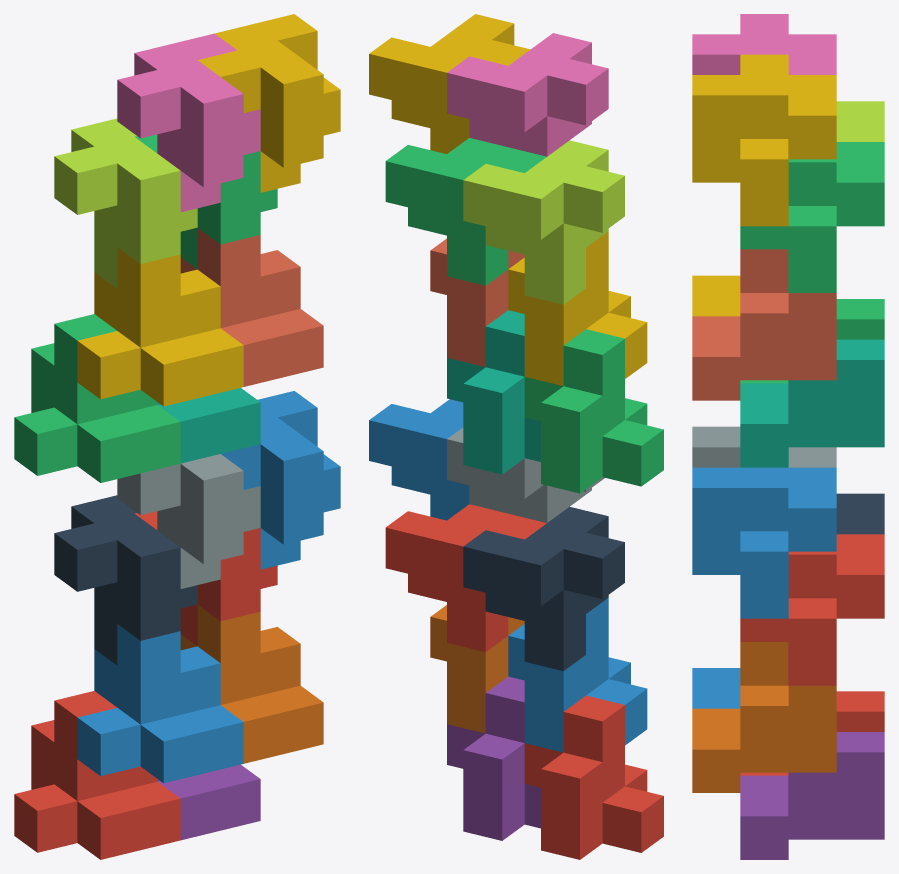
Rendered from tiling.obj.
3 renders of one model, left to right at view 1: azimuth 30°, elevation 25°; view 2: azimuth 150°, elevation 25°; view 3: azimuth 270°, elevation 25°, orthographic. The views are drawn at different scales.
Visible parts, largest first — view 1: copy_1_domain_2, copy_1_domain_4, copy_1_domain_3, copy_1_domain_1, copy_2_domain_4, copy_2_domain_3, copy_2_domain_1, copy_2_domain_8, copy_1_domain_8, copy_1_domain_6, copy_2_domain_6, copy_2_domain_2 (+4 smaller); view 2: copy_2_domain_1, copy_2_domain_3, copy_1_domain_1, copy_1_domain_3, copy_2_domain_4, copy_2_domain_5, copy_2_domain_7, copy_2_domain_8, copy_1_domain_5, copy_1_domain_7, copy_1_domain_4, copy_1_domain_2 (+4 smaller); view 3: copy_2_domain_8, copy_2_domain_6, copy_1_domain_8, copy_1_domain_6, copy_1_domain_7, copy_1_domain_5, copy_2_domain_5, copy_2_domain_7, copy_2_domain_4, copy_2_domain_2, copy_1_domain_1, copy_1_domain_3 (+4 smaller).
Part boxes in pixels (x1,y1,x2,y2): copy_1_domain_2: [77, 624, 243, 783]; copy_1_domain_4: [77, 247, 243, 406]; copy_1_domain_3: [14, 314, 180, 482]; copy_1_domain_1: [14, 691, 180, 859]; copy_2_domain_4: [117, 33, 260, 212]; copy_2_domain_3: [54, 118, 197, 288]; copy_2_domain_1: [54, 495, 197, 665]; copy_2_domain_8: [198, 14, 340, 192]; copy_1_domain_8: [180, 228, 323, 386]; copy_1_domain_6: [180, 605, 323, 763]; copy_2_domain_6: [221, 391, 340, 569]; copy_2_domain_2: [117, 454, 260, 588]; copy_2_domain_1: [463, 506, 624, 670]; copy_2_domain_3: [463, 140, 624, 304]; copy_1_domain_1: [524, 695, 663, 859]; copy_1_domain_3: [524, 329, 663, 493]; copy_2_domain_4: [447, 33, 608, 156]; copy_2_domain_5: [385, 504, 546, 651]; copy_2_domain_7: [385, 138, 546, 285]; copy_2_domain_8: [369, 14, 530, 153]; copy_1_domain_5: [447, 676, 540, 840]; copy_1_domain_7: [447, 310, 540, 474]; copy_1_domain_4: [508, 231, 647, 385]; copy_1_domain_2: [508, 598, 647, 752]; copy_2_domain_8: [692, 54, 836, 226]; copy_2_domain_6: [692, 467, 836, 618]; copy_1_domain_8: [692, 249, 836, 400]; copy_1_domain_6: [692, 642, 836, 792]; copy_1_domain_7: [740, 339, 884, 467]; copy_1_domain_5: [740, 732, 884, 859]; copy_2_domain_5: [740, 534, 884, 685]; copy_2_domain_7: [740, 142, 884, 292]; copy_2_domain_4: [692, 14, 836, 74]; copy_2_domain_2: [692, 426, 836, 467]; copy_1_domain_1: [740, 691, 884, 775]; copy_1_domain_3: [740, 299, 884, 383].
Bounding box in the file's own units: 7 × 18 × 4.
